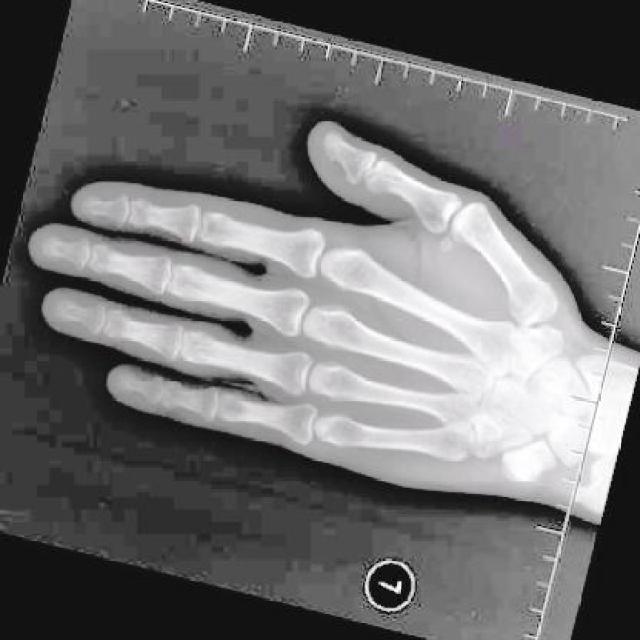bone: (325, 154, 354, 183)
